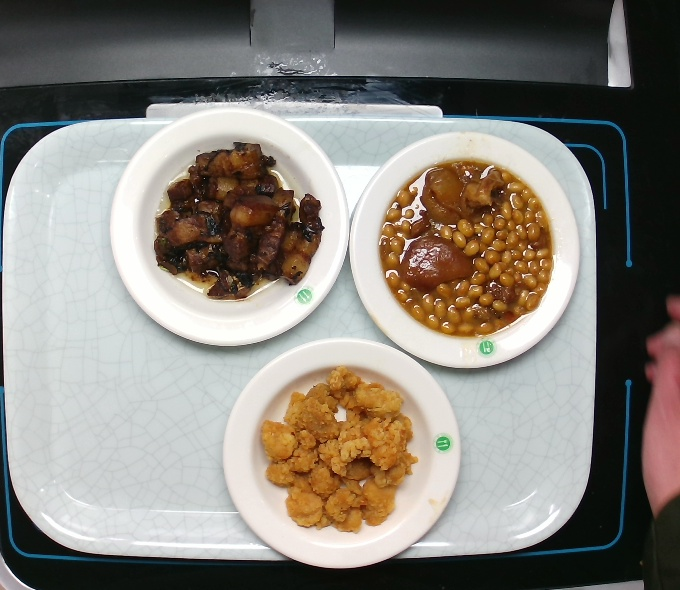wcq-GanCaiRou: (151, 141, 323, 301)
wcq-HuangDouZhuJiao: (374, 154, 555, 340)
wcq-JiMiHua: (258, 364, 416, 535)
